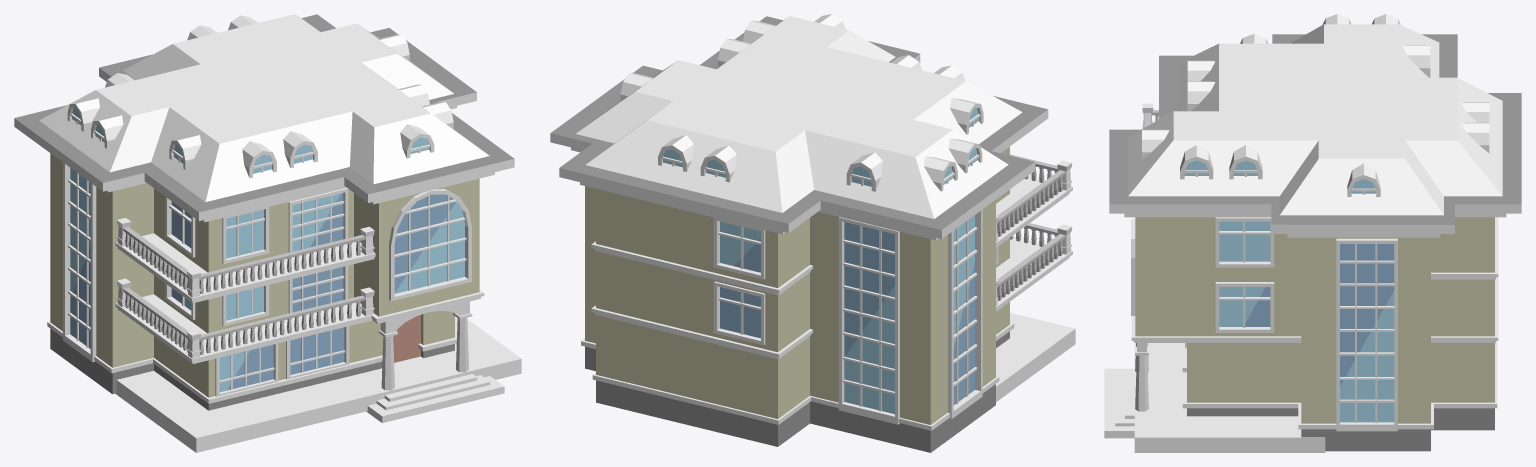
Rendered from SM_Home.fbx.
The picture shows the model from 3 angles, left to right: view 1: azimuth 30°, elevation 25°; view 2: azimuth 150°, elevation 25°; view 3: azimuth 270°, elevation 25°; orthographic projection. The views are drawn at different scales.
Parts seen in each view (by area): view 1: huitugou_5505_161; view 2: huitugou_5505_161; view 3: huitugou_5505_161.
Part boxes in pixels (x1,y1,x2,y2): huitugou_5505_161: [14, 14, 521, 452]; huitugou_5505_161: [550, 14, 1075, 452]; huitugou_5505_161: [1104, 14, 1521, 452].
Size of the model in its own units: 546 by 371 by 505.
